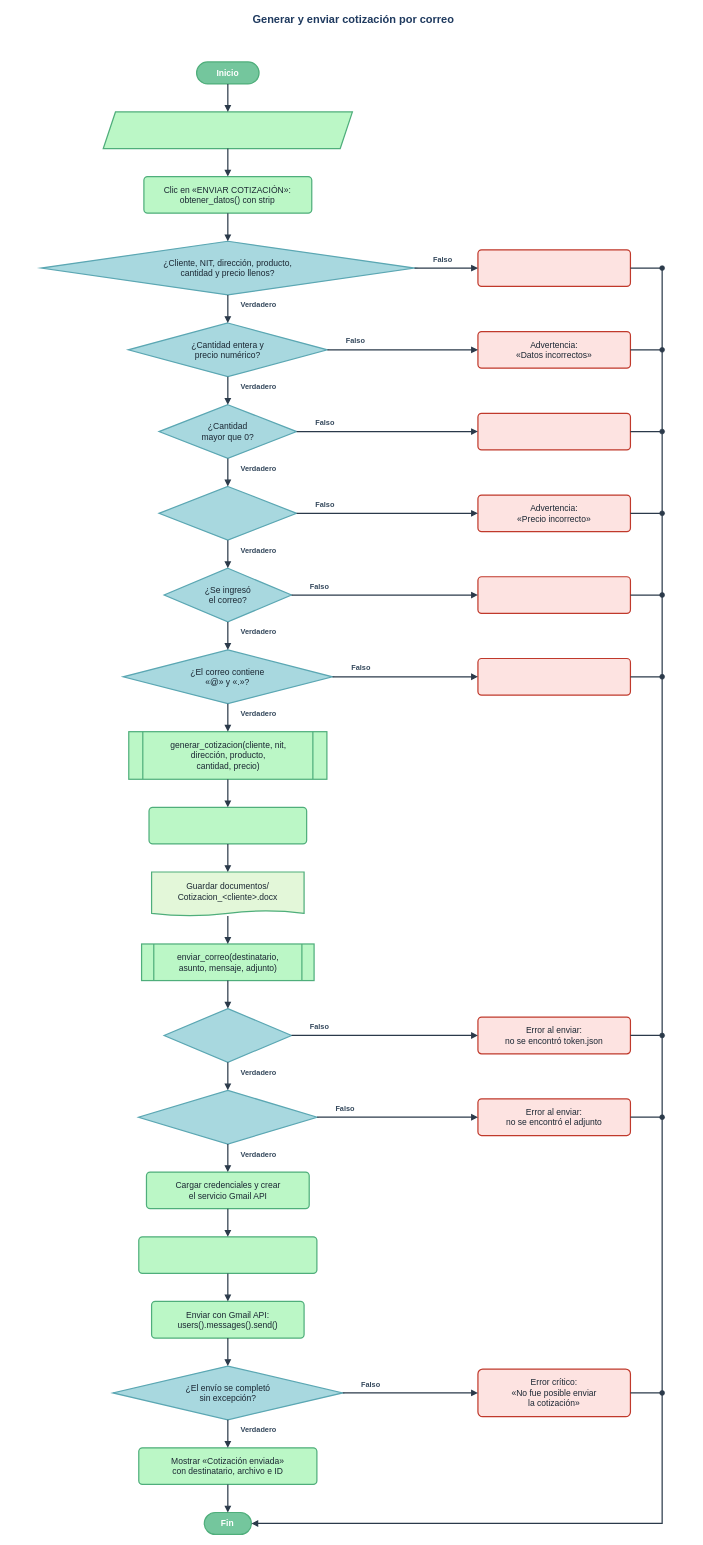
Image size: 703x1545. Some labels were removed from this diagram. Each missing label, with the box of its shape:
Advertencia: «Cantidad incorrecta»: (477, 412, 631, 450)
Advertencia: «Correo incorrecto»: (477, 658, 631, 695)
Advertencia: «Correo requerido»: (477, 576, 631, 614)
Advertencia: «Datos incompletos»: (477, 249, 631, 287)
Armar el mensaje con el .docx adjunto y codificarlo (base64): (138, 1236, 317, 1274)
Ingresar cliente, correo, NIT, dirección, producto, cantidad y precio: (102, 111, 353, 149)
total = cantidad × precio (documento Word con tabla): (148, 806, 307, 844)
¿Existe el archivo adjunto?: (138, 1089, 317, 1144)
¿Existe token.json?: (163, 1008, 292, 1063)
¿Precio no negativo?: (158, 486, 297, 540)
